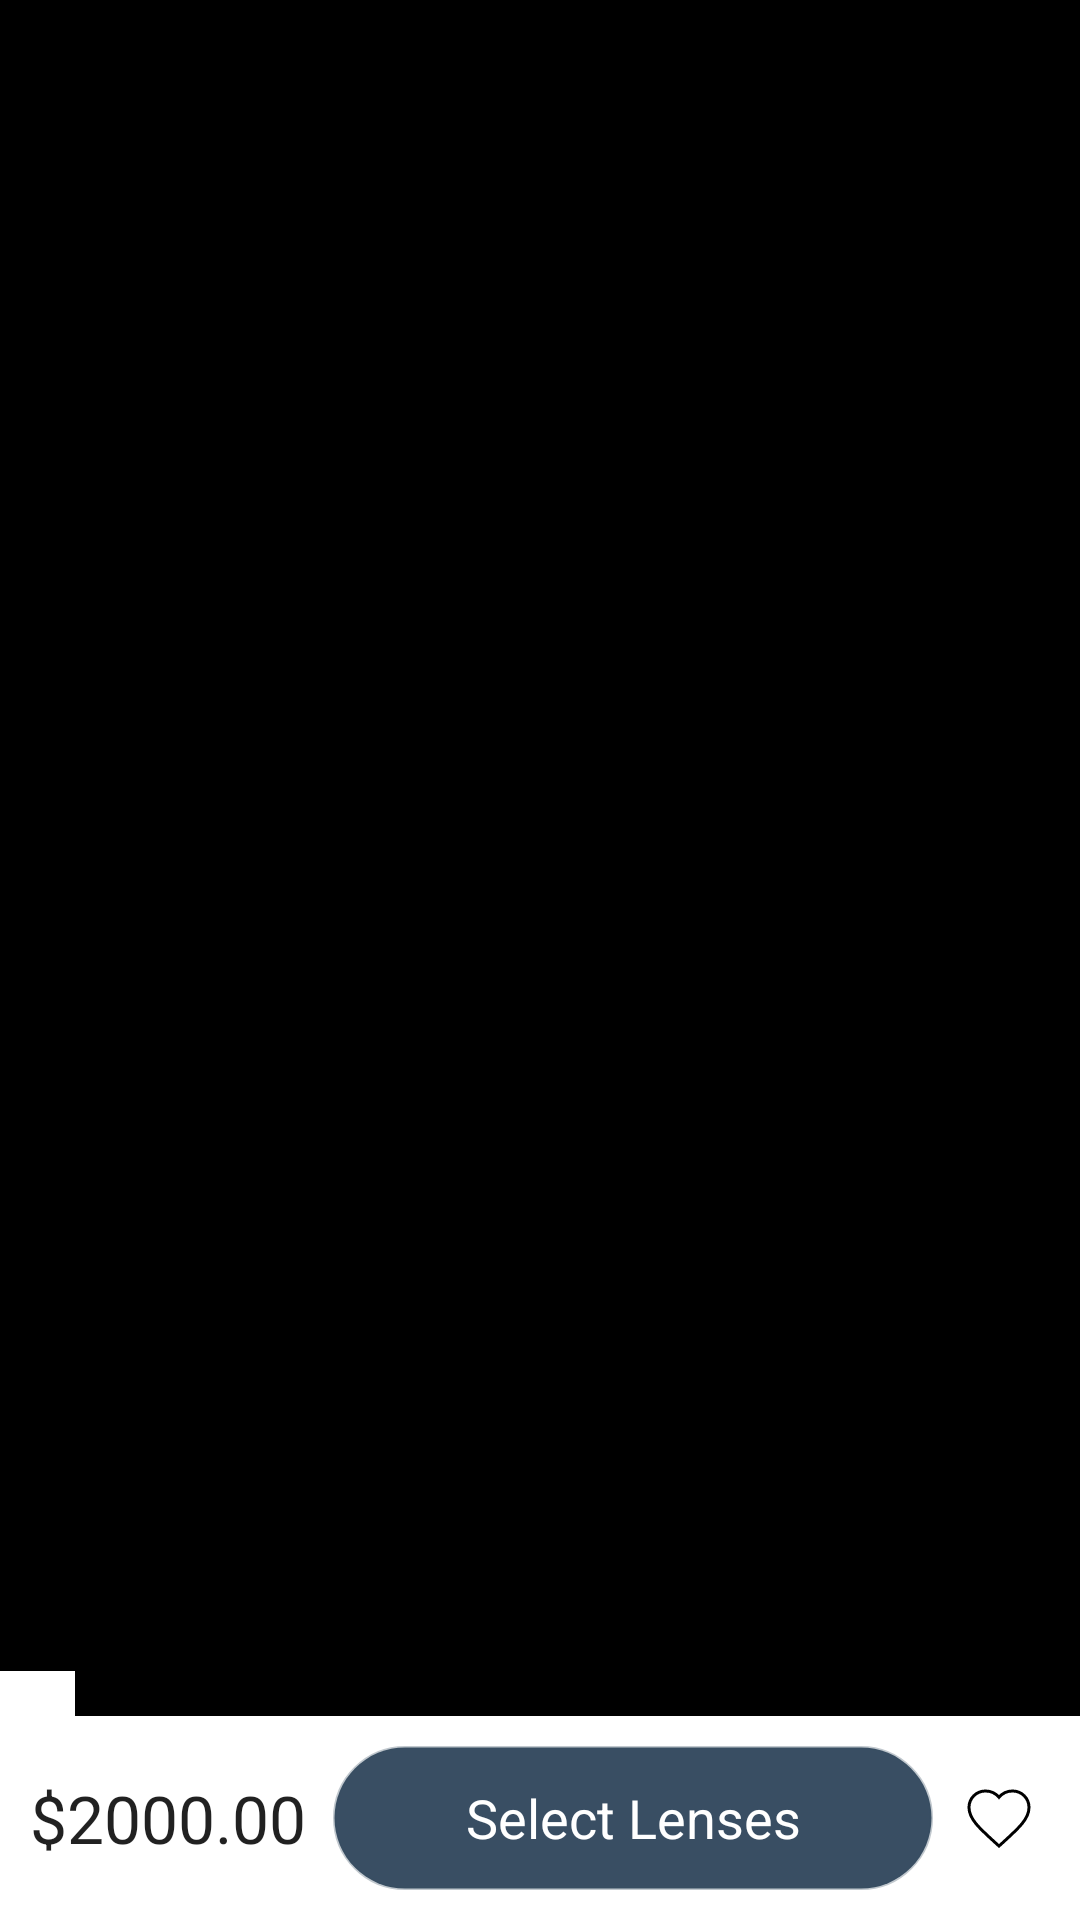

Named icons in this screenshot (1080w x 1920h) and their centers, [x,y]:
favorite: [999,1818]
